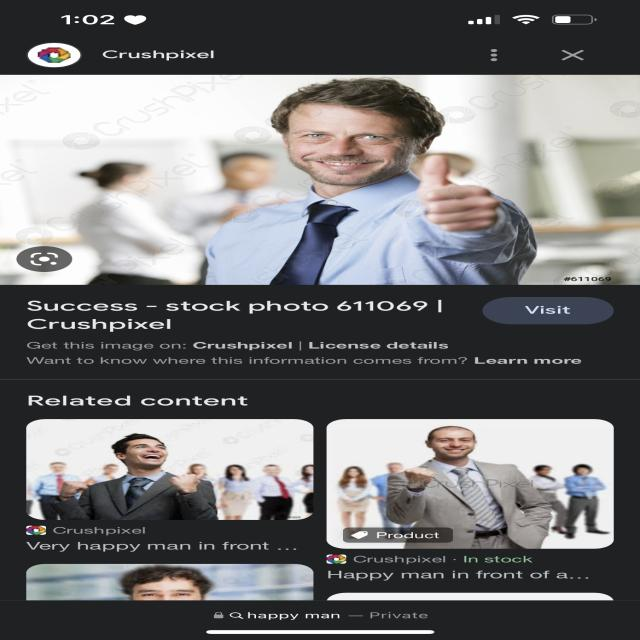happy: (279, 102, 423, 186)
